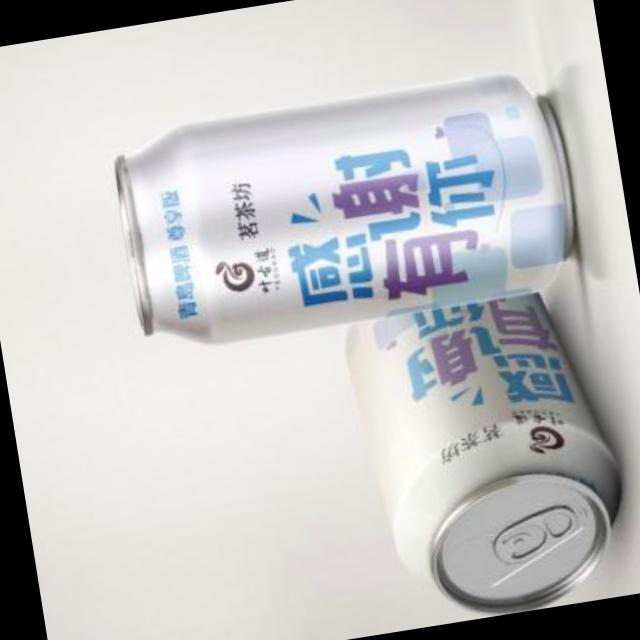metal: (113, 79, 570, 346), (345, 298, 616, 616)
